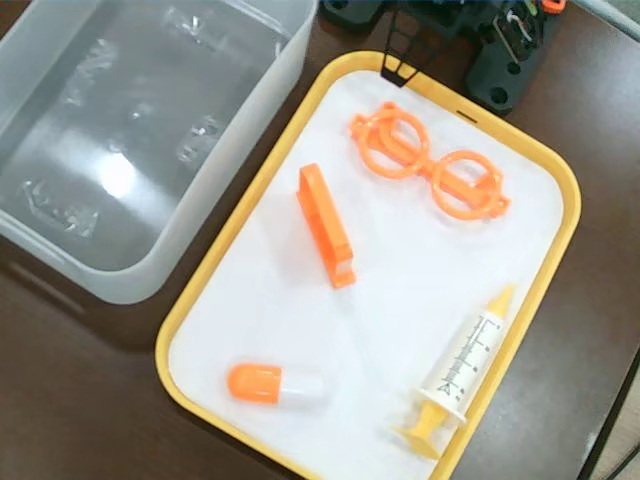pill: (225, 361, 332, 409)
syringe: (394, 284, 519, 455)
